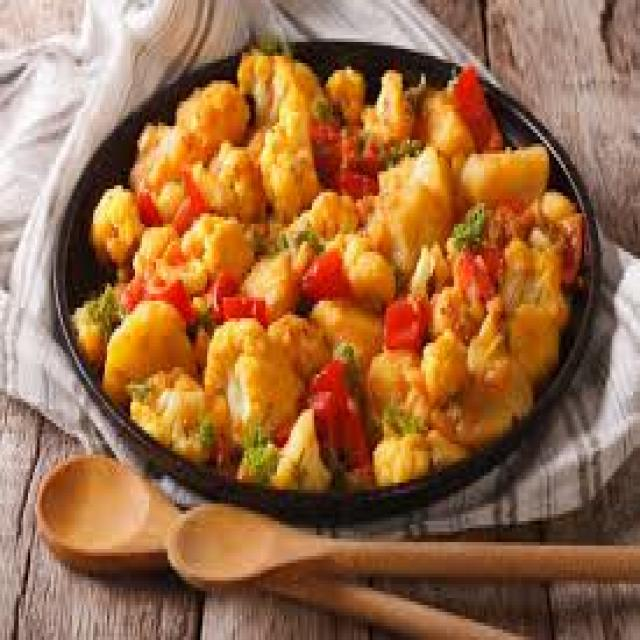Aloo Gobi: (91, 48, 591, 483)
